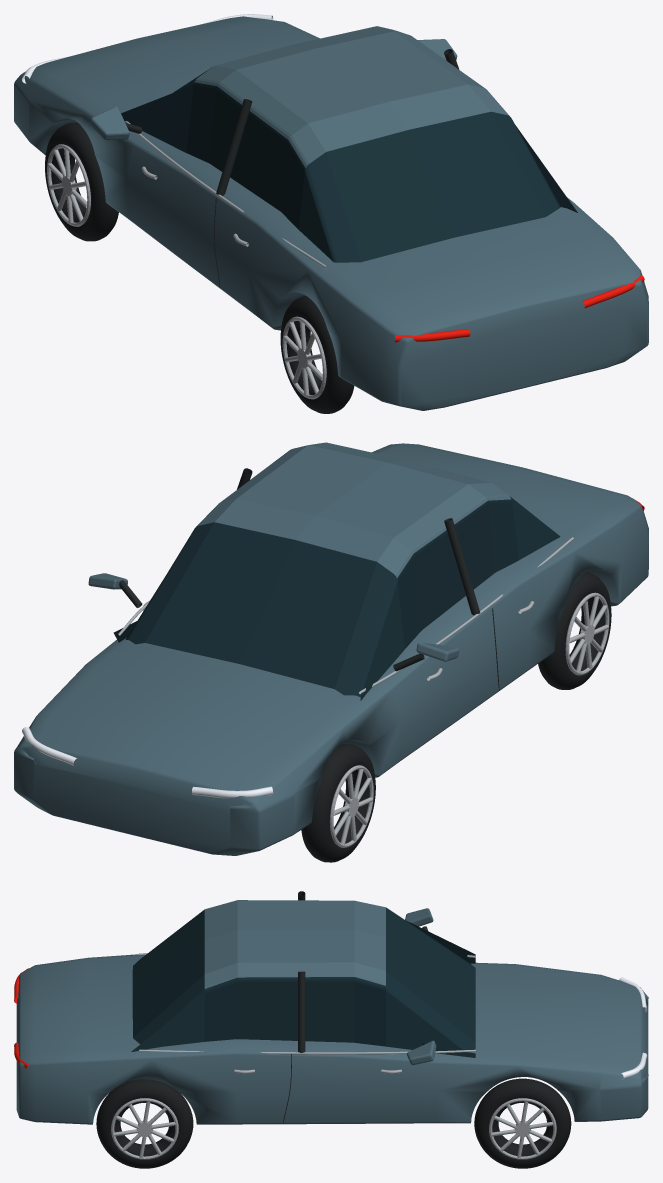
Rendered from sedan.glb.
3 renders of one model, top to bottom at view 1: azimuth 30°, elevation 25°; view 2: azimuth 150°, elevation 25°; view 3: azimuth 270°, elevation 25°, orthographic. The views are drawn at different scales.
Visible parts, largest first — view 1: Sedan formed body, Cabin glass and roof, Tire, Alloy spoke, B pillar, Mirror housing, Rear LED; view 2: Sedan formed body, Cabin glass and roof, Tire, Alloy spoke, B pillar, Front LED, Mirror housing; view 3: Sedan formed body, Cabin glass and roof, Tire, Alloy spoke, Mirror housing, B pillar, Front LED.
Boxes of the visible parts, x1=… form: Sedan formed body: x1=14, y1=16, x2=648, y2=410; Cabin glass and roof: x1=121, y1=26, x2=577, y2=262; Tire: x1=45, y1=123, x2=354, y2=413; Alloy spoke: x1=47, y1=121, x2=573, y2=399; B pillar: x1=125, y1=49, x2=459, y2=287; Mirror housing: x1=90, y1=39, x2=457, y2=140; Rear LED: x1=395, y1=275, x2=644, y2=342; Sedan formed body: x1=14, y1=443, x2=648, y2=855; Cabin glass and roof: x1=113, y1=442, x2=560, y2=700; Tire: x1=301, y1=572, x2=611, y2=862; Alloy spoke: x1=118, y1=537, x2=609, y2=847; B pillar: x1=119, y1=468, x2=499, y2=690; Front LED: x1=22, y1=727, x2=273, y2=798; Mirror housing: x1=88, y1=573, x2=459, y2=661; Sedan formed body: x1=16, y1=954, x2=648, y2=1124; Cabin glass and roof: x1=131, y1=900, x2=475, y2=1057; Tire: x1=96, y1=1078, x2=571, y2=1168; Alloy spoke: x1=111, y1=953, x2=556, y2=1159; Mirror housing: x1=405, y1=908, x2=436, y2=1065; B pillar: x1=283, y1=891, x2=427, y2=1123; Front LED: x1=619, y1=977, x2=647, y2=1079.
Size of the model in its own units: 2.32 by 1.45 by 4.45.
